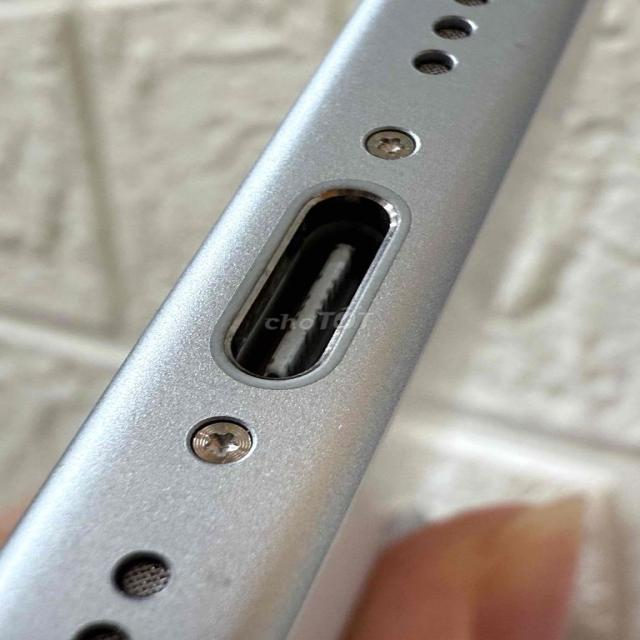gen_15: (0, 0, 627, 640)
